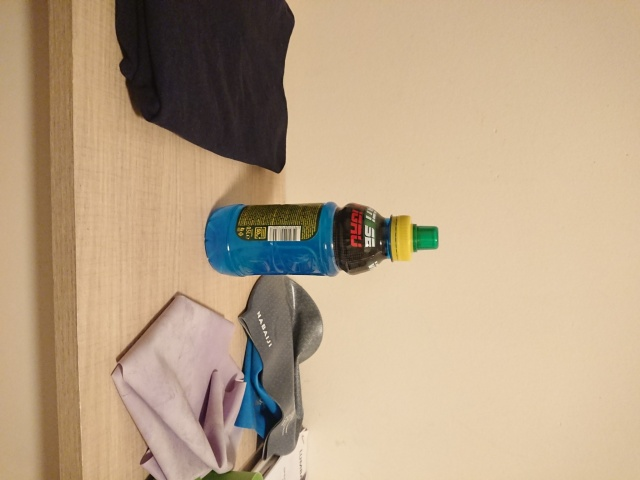Vindi Iso Sport Forest Strawberries 500mL: (201, 199, 441, 278)
